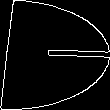L_W: (5, 38, 105, 72)
